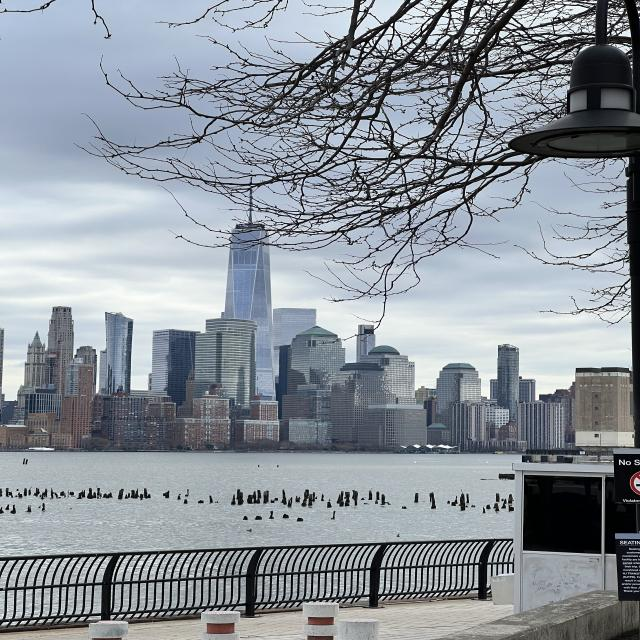WTC: (222, 182, 272, 326)
